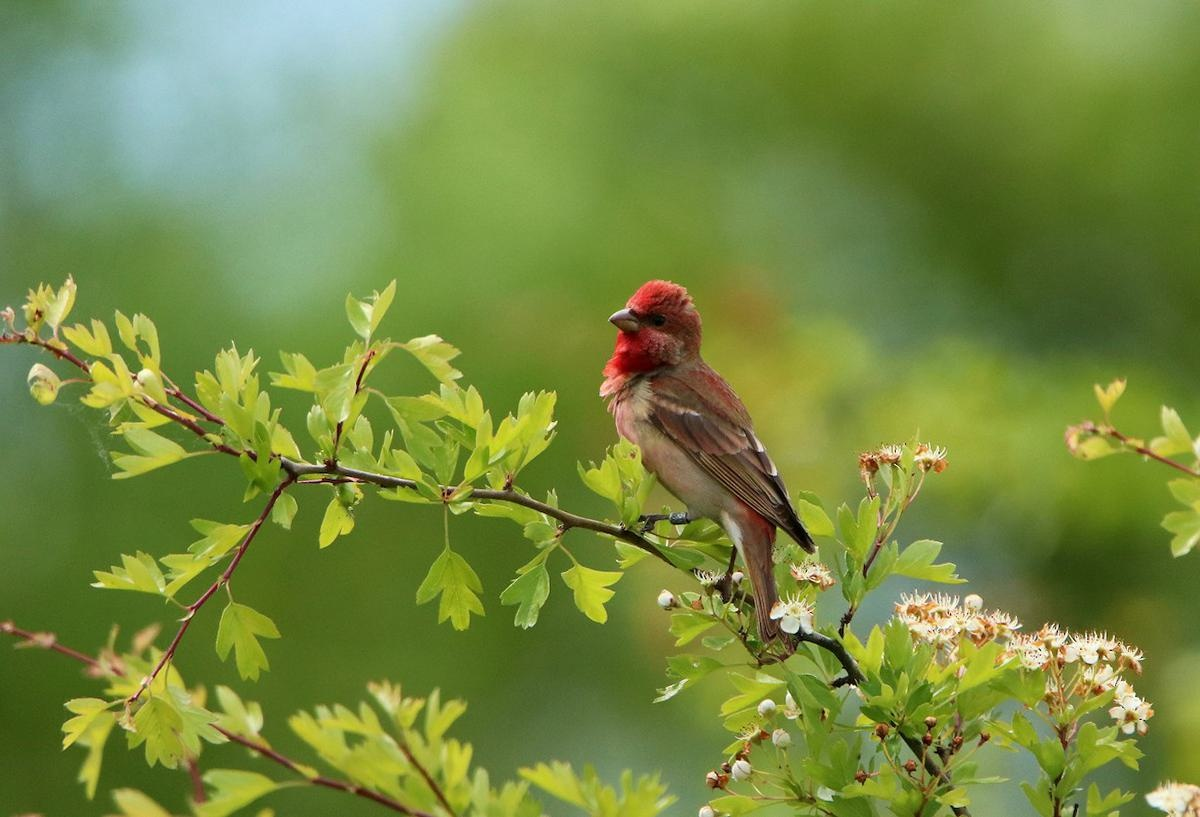rosefinch: (589, 260, 844, 654)
